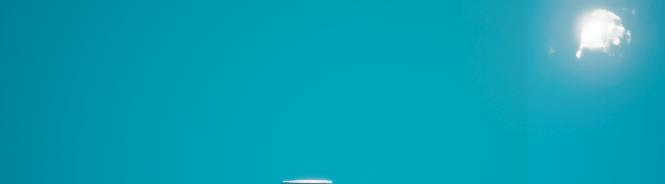land_base: (533, 0, 665, 84)
